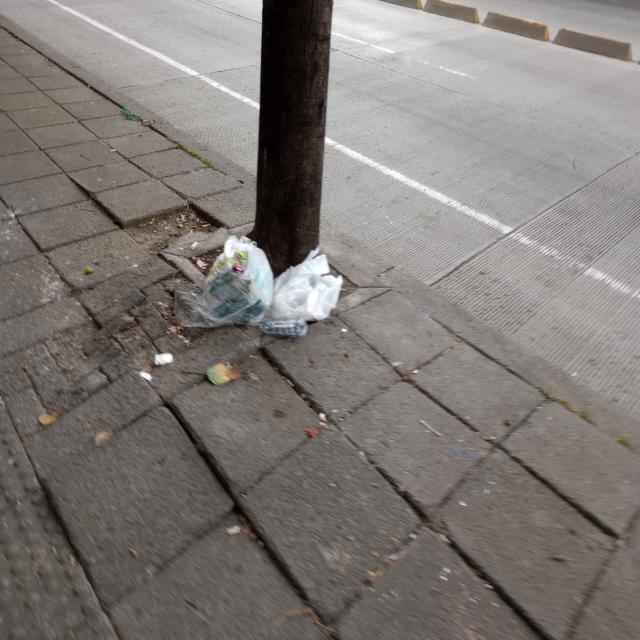Garbage_Bag: (194, 230, 276, 325), (268, 250, 344, 328)
